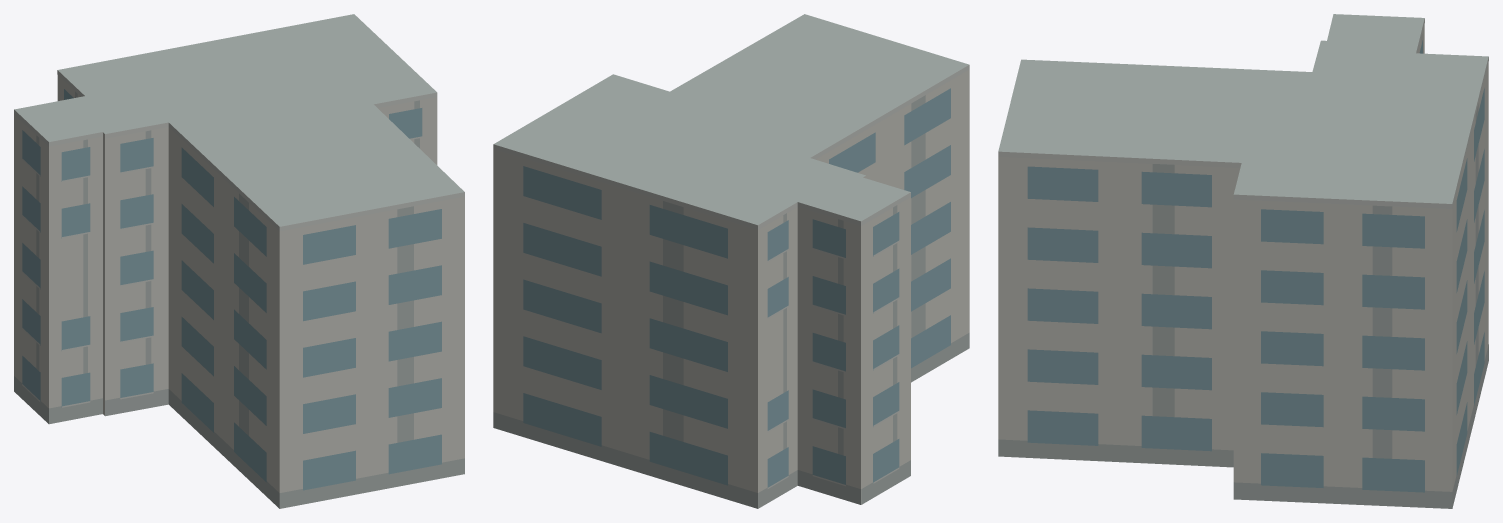
Rendered from survey-upis-32824896.glb.
3 renders of one model, left to right at view 1: azimuth 30°, elevation 25°; view 2: azimuth 150°, elevation 25°; view 3: azimuth 270°, elevation 25°, orthographic. The views are drawn at different scales.
Visible parts, largest first — view 1: survey-upis-32824896.tmp; view 2: survey-upis-32824896.tmp; view 3: survey-upis-32824896.tmp.
Part boxes in pixels (x1,y1,x2,y2): survey-upis-32824896.tmp: [14, 14, 464, 508]; survey-upis-32824896.tmp: [493, 14, 969, 508]; survey-upis-32824896.tmp: [998, 14, 1488, 508].
Bounding box in the file's own units: 19.73 × 14.75 × 21.52.
